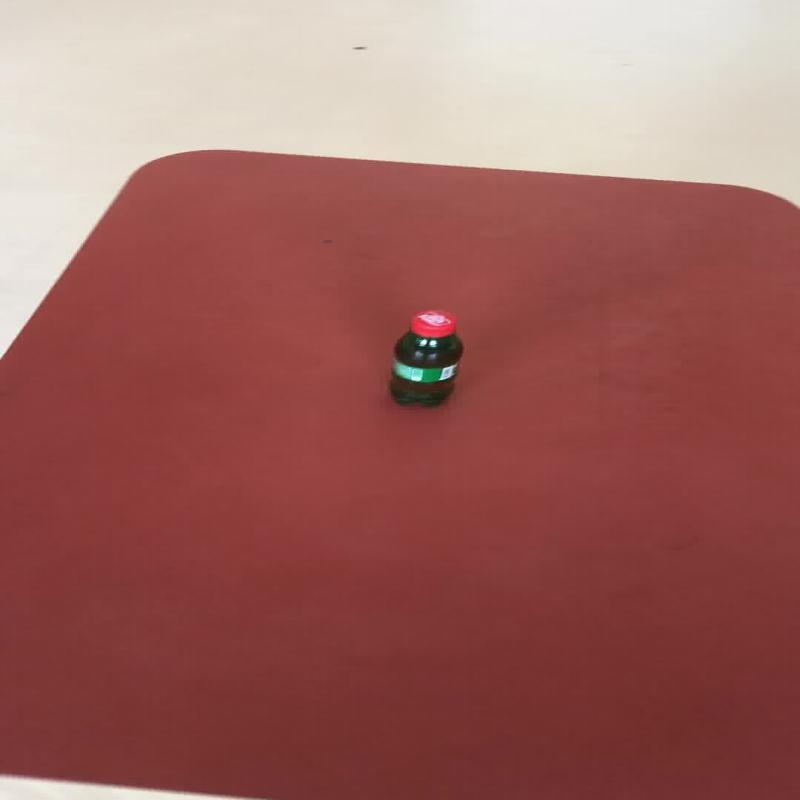guarana: (386, 308, 463, 408)
